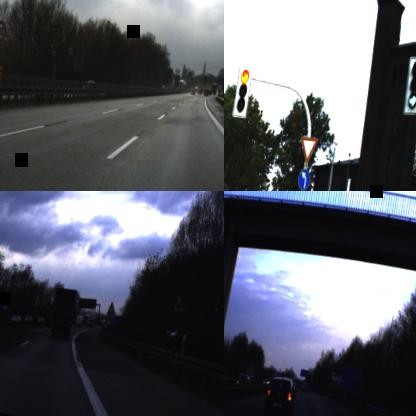DANGER: (0, 289, 11, 305), (106, 300, 116, 316)
SNOW: (169, 288, 189, 316)
give way: (296, 134, 319, 165)
go left or straight: (296, 167, 312, 191)
speed limit 100: (0, 18, 7, 42)
